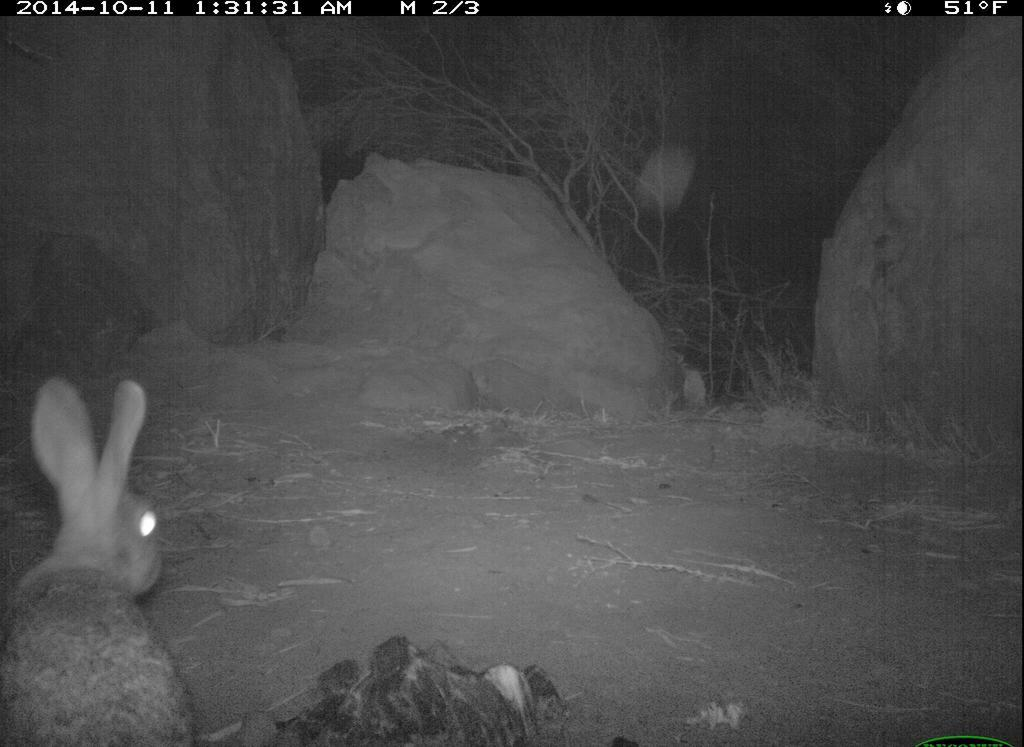rabbit: (6, 359, 223, 747)
